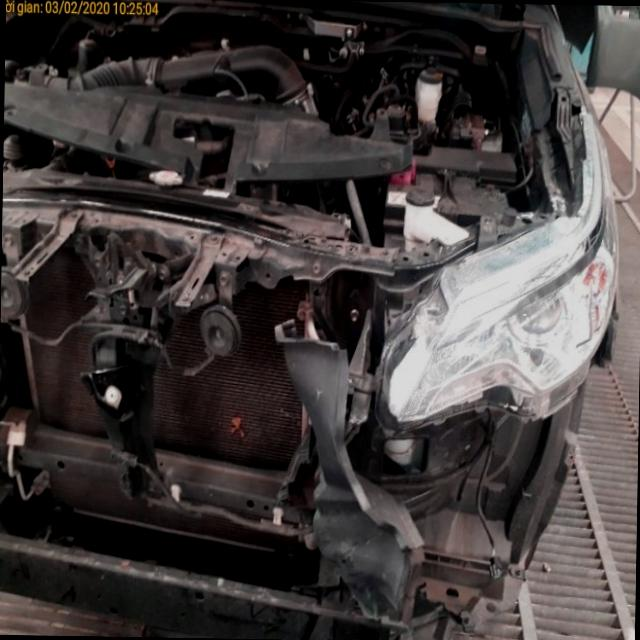Phare abime: (392, 230, 627, 420)
